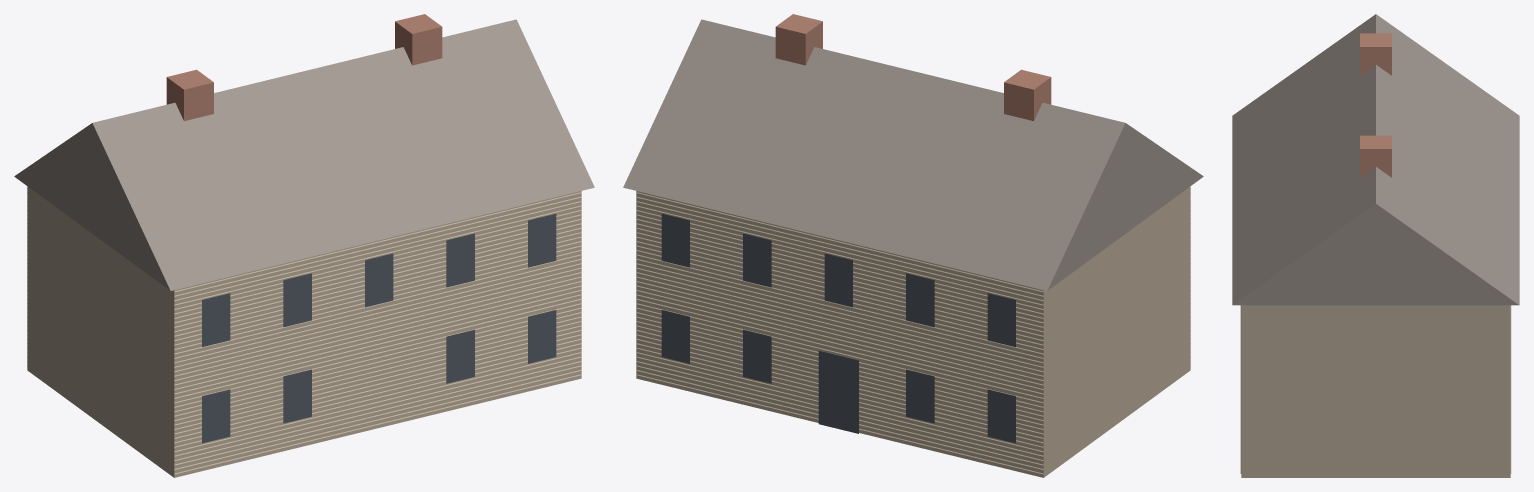
File: new_york_house__frame_1834.glb
3 views of the same model, side by side, from view 1: azimuth 30°, elevation 25°; view 2: azimuth 150°, elevation 25°; view 3: azimuth 270°, elevation 25° (orthographic). The views are drawn at different scales.
Visible parts, largest first — view 1: new_york_house__frame_1834; view 2: new_york_house__frame_1834; view 3: new_york_house__frame_1834.
Boxes of the visible parts, bbox=[...] form: new_york_house__frame_1834: bbox=[14, 14, 594, 477]; new_york_house__frame_1834: bbox=[623, 14, 1203, 477]; new_york_house__frame_1834: bbox=[1232, 14, 1519, 477].
Bounding box in the file's own units: 12.69 × 9.22 × 8.12.
